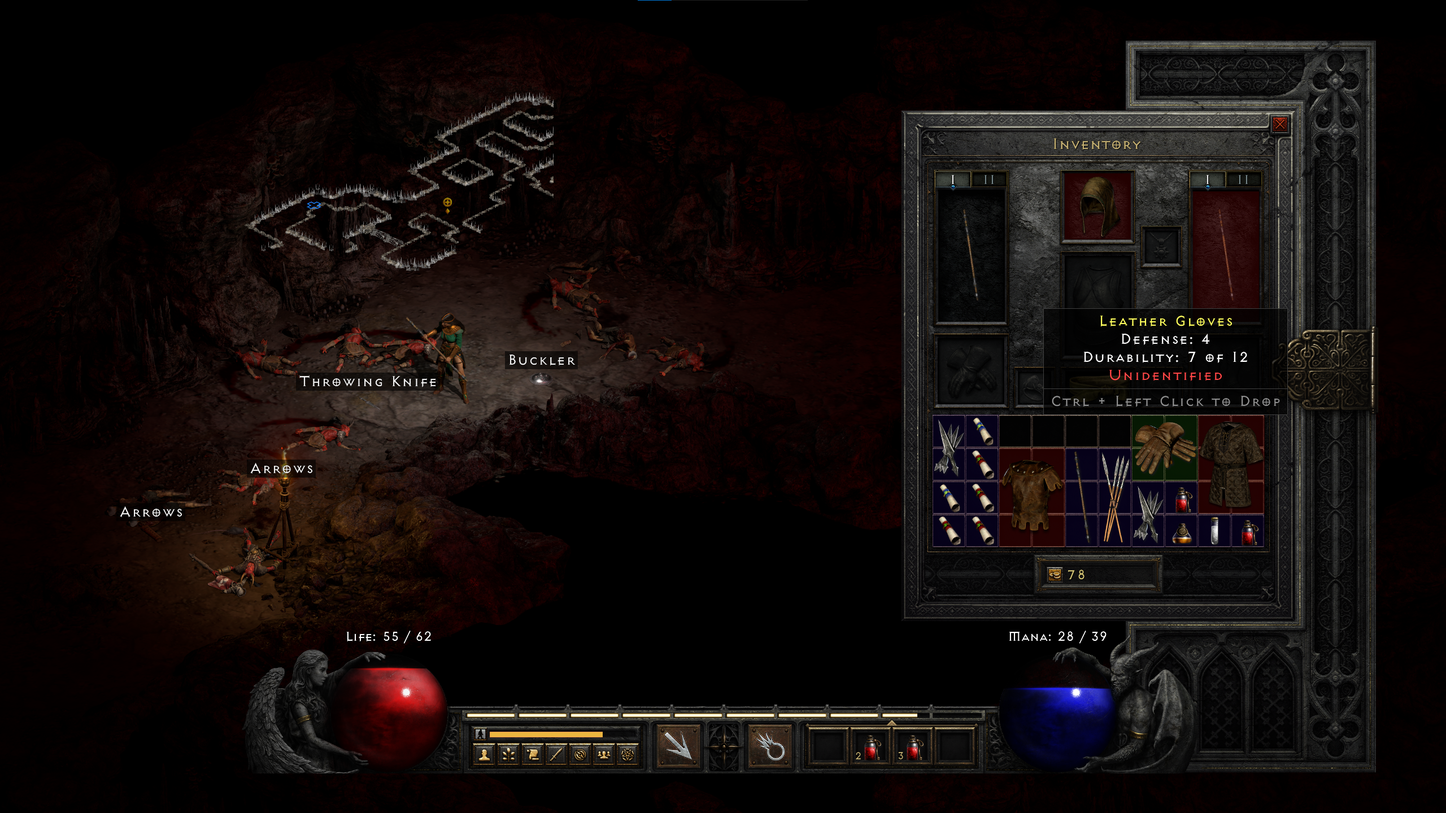tooltip: (1043, 308, 1287, 414)
